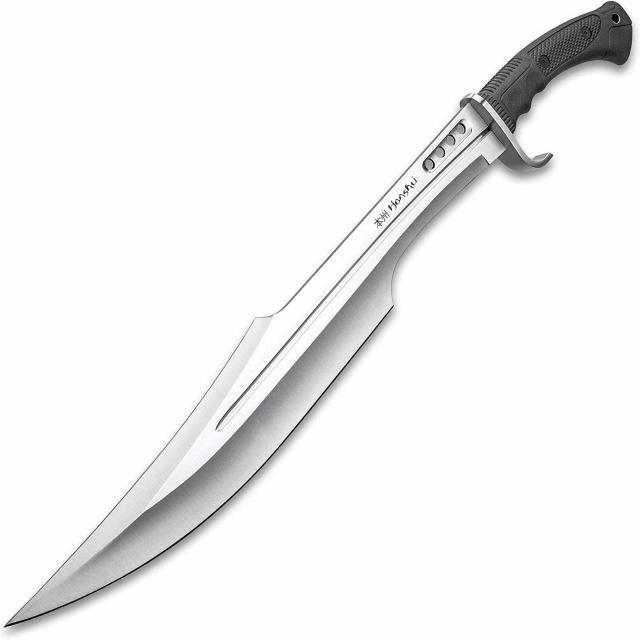knife: (22, 2, 638, 640)
